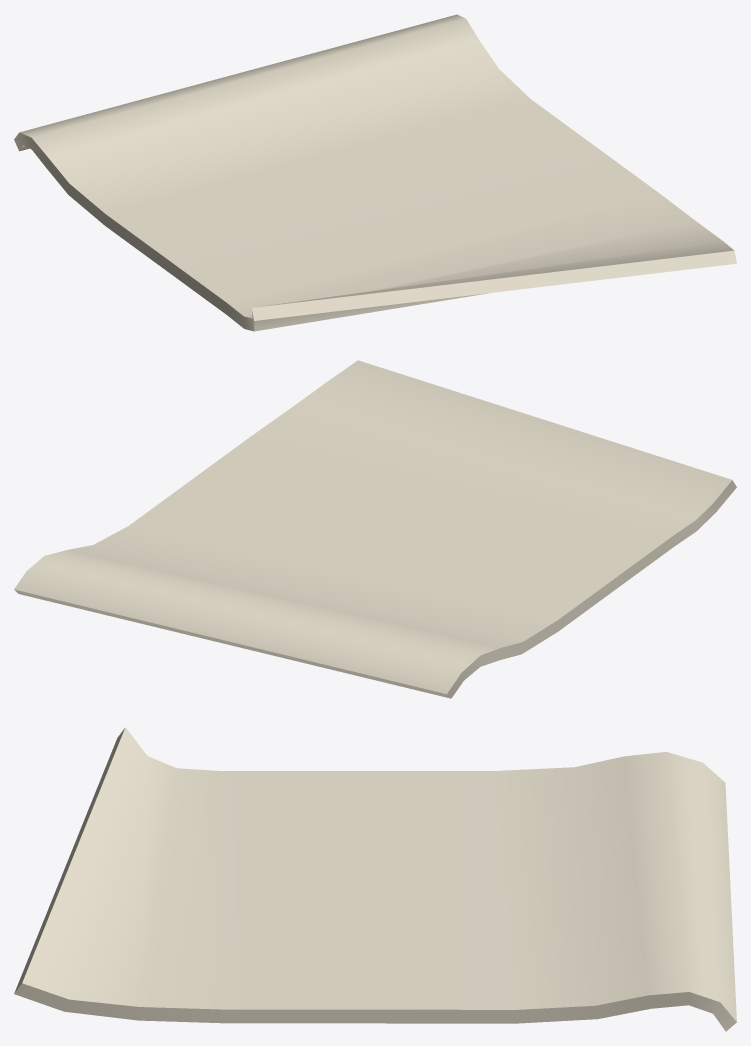
Rendered from Parchment_A.fbx.
The picture shows the model from 3 angles, top to bottom: view 1: azimuth 30°, elevation 25°; view 2: azimuth 150°, elevation 25°; view 3: azimuth 270°, elevation 25°; orthographic projection. The views are drawn at different scales.
Parts seen in each view (by area): view 1: Parchment_A; view 2: Parchment_A; view 3: Parchment_A.
Part boxes in pixels (x1=…): Parchment_A: x1=14, y1=14, x2=736, y2=331; Parchment_A: x1=14, y1=360, x2=736, y2=698; Parchment_A: x1=14, y1=727, x2=736, y2=1031.
Size of the model in its own units: 43.83 by 3.8 by 51.23.
